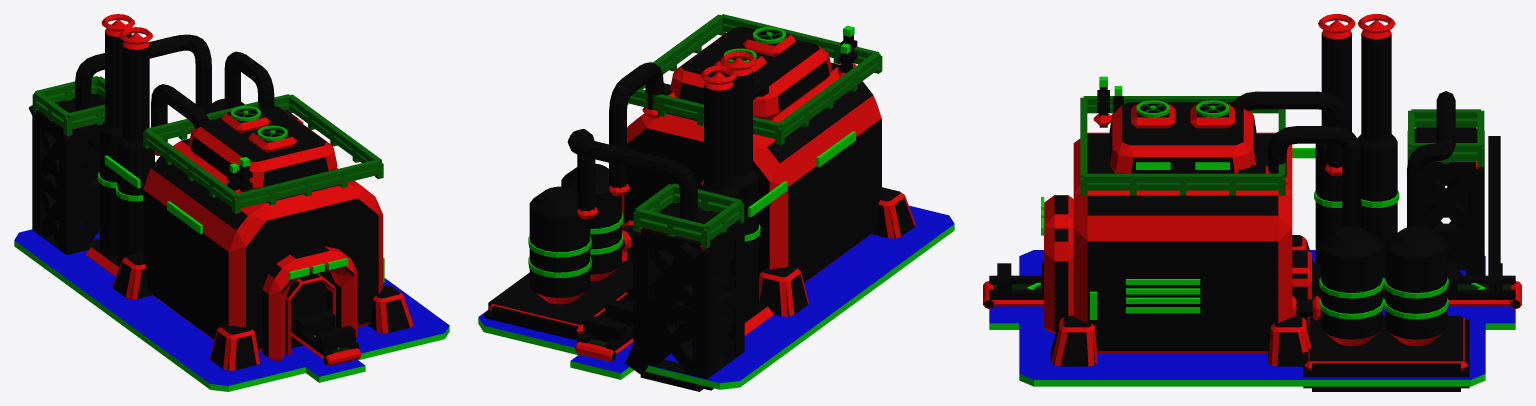
Rendered from SM_Holo_Refinery_T3_Mini.fbx.
3 renders of one model, left to right at view 1: azimuth 30°, elevation 25°; view 2: azimuth 150°, elevation 25°; view 3: azimuth 270°, elevation 25°, orthographic. The views are drawn at different scales.
Visible parts, largest first — view 1: SM_Holo_Refinery_T3_Mini; view 2: SM_Holo_Refinery_T3_Mini; view 3: SM_Holo_Refinery_T3_Mini.
Boxes of the visible parts, <box> form: SM_Holo_Refinery_T3_Mini: <box>14,14,449,391</box>; SM_Holo_Refinery_T3_Mini: <box>478,14,954,391</box>; SM_Holo_Refinery_T3_Mini: <box>983,14,1521,391</box>.
Size of the model in its own units: 12.4 by 12.35 by 21.71.
